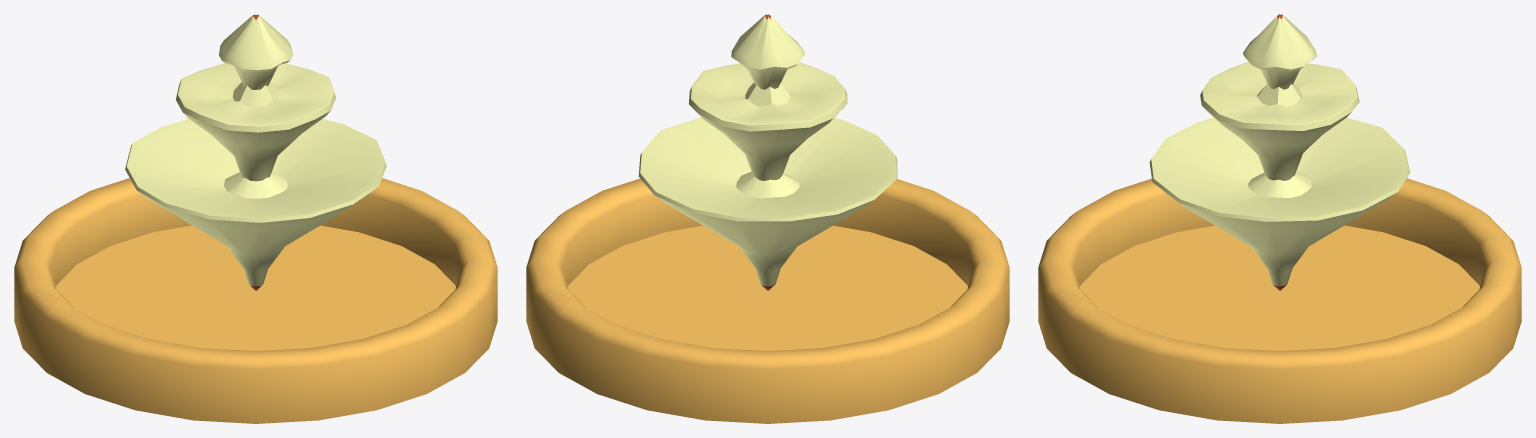
Rendered from Fountain.fbx.
The picture shows the model from 3 angles, left to right: view 1: azimuth 30°, elevation 25°; view 2: azimuth 150°, elevation 25°; view 3: azimuth 270°, elevation 25°; orthographic projection.
Parts seen in each view (by area): view 1: Fountain; view 2: Fountain; view 3: Fountain.
Boxes of the visible parts, x1,y1,x2,y2 form: Fountain: (14, 14, 497, 423); Fountain: (526, 14, 1009, 423); Fountain: (1038, 14, 1521, 423).
Bounding box in the file's own units: 311 × 218 × 311.
